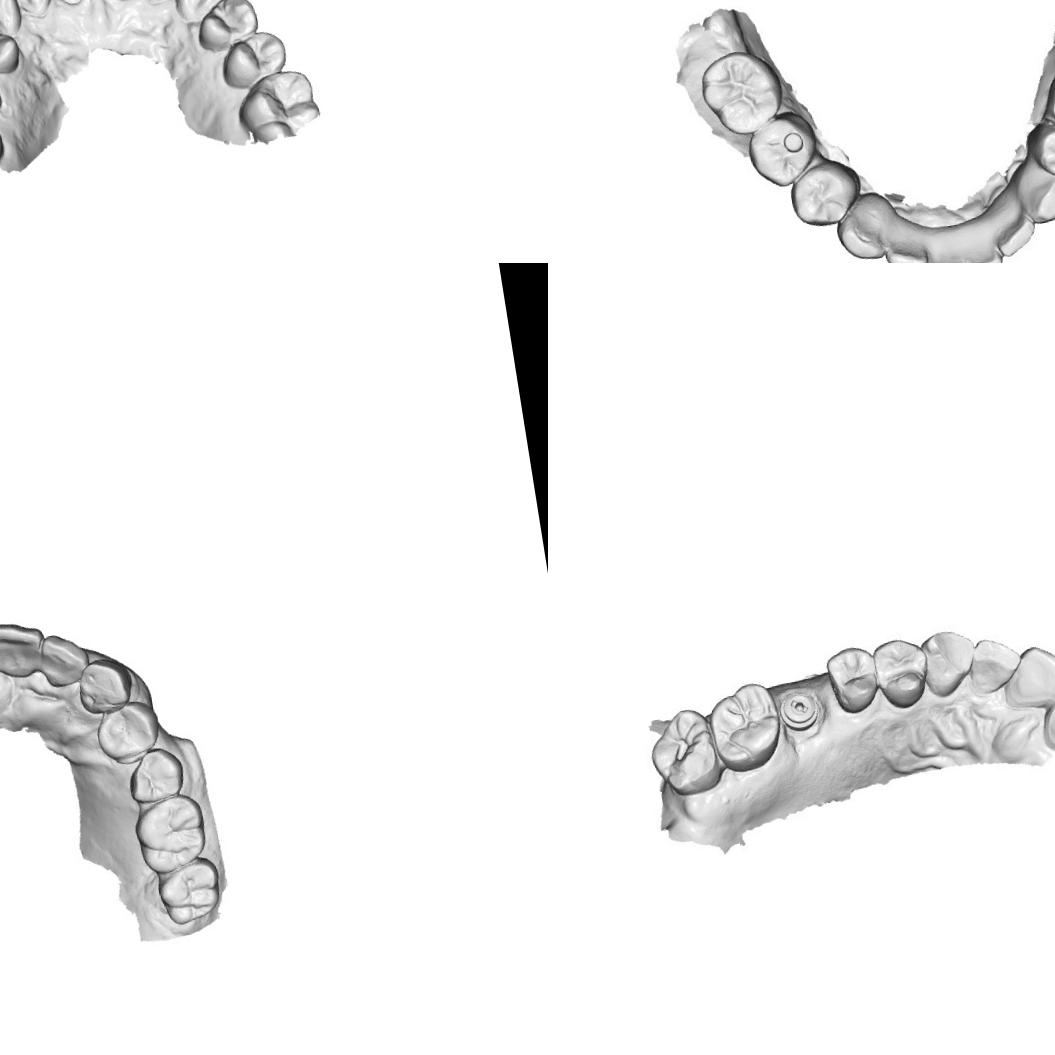canine: (830, 188, 898, 263), (916, 624, 980, 700), (74, 654, 137, 718), (1016, 158, 1055, 226), (166, 0, 231, 28), (0, 0, 26, 45)
implant_minus: (775, 686, 824, 734)
incisor: (995, 636, 1055, 713), (961, 630, 1027, 697), (983, 194, 1041, 262), (0, 614, 50, 684), (36, 628, 92, 690), (953, 219, 1007, 263), (880, 213, 927, 263), (916, 226, 972, 263), (3, 0, 60, 23)
molar: (696, 43, 788, 139), (642, 700, 730, 800), (701, 679, 784, 776), (231, 65, 324, 143), (130, 790, 212, 877), (151, 852, 226, 928)
premolar: (744, 108, 821, 190), (785, 156, 863, 230), (90, 696, 166, 770), (820, 641, 889, 721), (213, 26, 293, 94), (870, 635, 932, 712), (123, 742, 190, 808), (190, 0, 264, 58), (1028, 119, 1055, 187), (0, 15, 25, 83), (1040, 69, 1055, 137)
